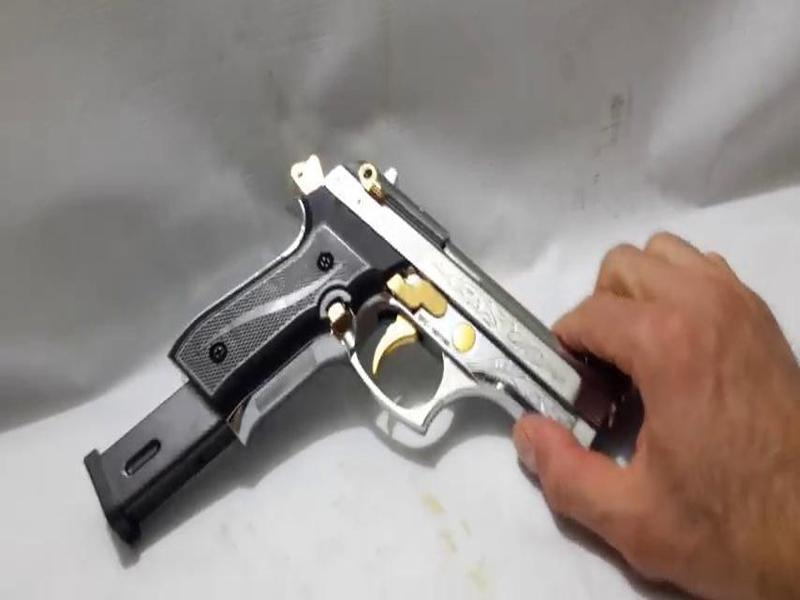Pistola: (160, 123, 630, 474)
